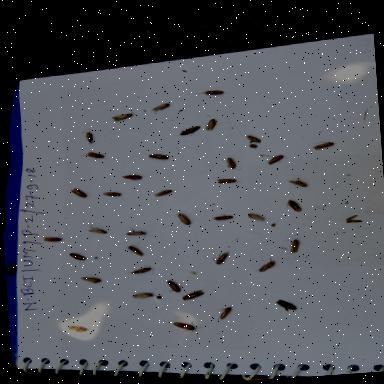pbw: (125, 225, 147, 242), (126, 264, 154, 276), (282, 238, 301, 255), (124, 241, 144, 257), (254, 257, 275, 272), (276, 298, 296, 312), (181, 289, 204, 301), (40, 233, 63, 245), (110, 112, 137, 122), (216, 306, 232, 322), (166, 278, 182, 294), (312, 140, 336, 150), (150, 102, 170, 114), (285, 198, 302, 212), (212, 250, 229, 264), (213, 176, 242, 184), (178, 126, 201, 136), (147, 152, 170, 162), (210, 212, 233, 222), (288, 177, 308, 188), (80, 151, 104, 160), (266, 154, 285, 165), (88, 223, 106, 234), (176, 212, 191, 225), (70, 187, 86, 199), (82, 128, 94, 144), (197, 89, 223, 96), (68, 252, 86, 262), (248, 212, 266, 222), (80, 276, 101, 284), (245, 134, 261, 144), (204, 118, 217, 130), (132, 292, 154, 299), (153, 188, 172, 196), (100, 191, 121, 197), (121, 174, 142, 180), (226, 156, 236, 168)
